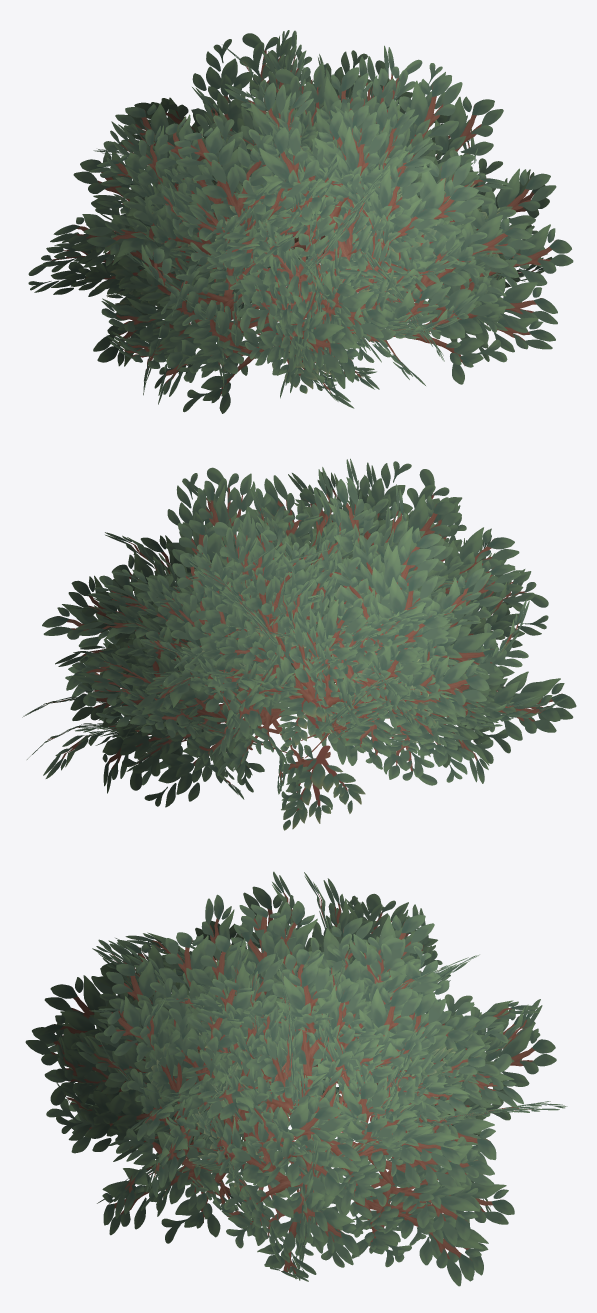
File: berryBush_1.fbx
3 renders of one model, top to bottom at view 1: azimuth 30°, elevation 25°; view 2: azimuth 150°, elevation 25°; view 3: azimuth 270°, elevation 25°, orthographic. The views are drawn at different scales.
Parts seen in each view (by area): view 1: bushBerry_3; view 2: bushBerry_3; view 3: bushBerry_3.
Part boxes in pixels (x1=…): bushBerry_3: x1=28, y1=30, x2=573, y2=413; bushBerry_3: x1=22, y1=458, x2=576, y2=830; bushBerry_3: x1=25, y1=871, x2=567, y2=1286.
Bounding box in the file's own units: 231 × 128 × 224.
1 material, 1 textured.
